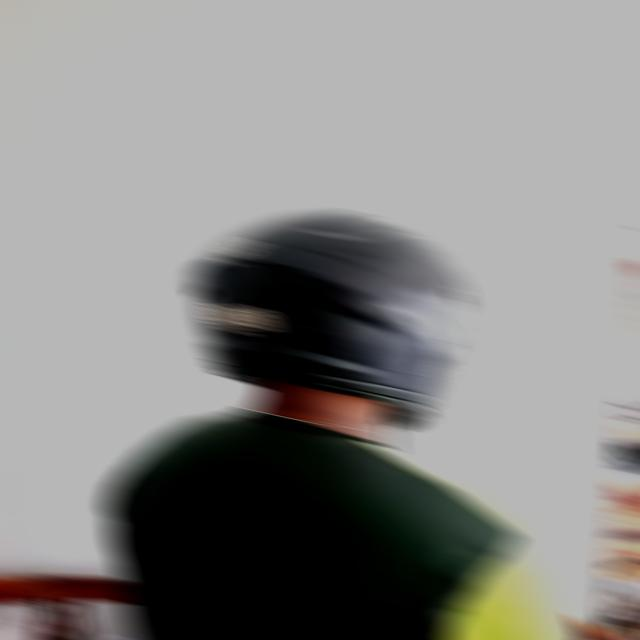With Helmet: (187, 206, 470, 428)
